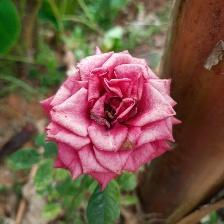rose: (37, 45, 184, 193)
